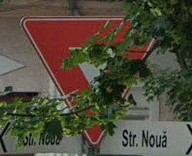cedeaza: (14, 6, 164, 148)
